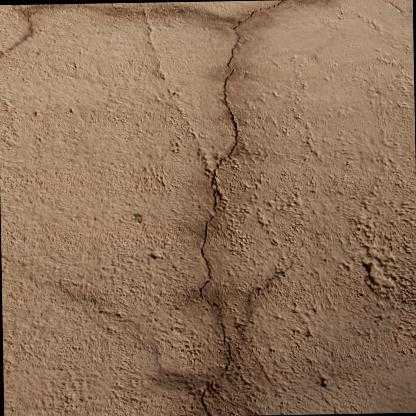crack: (197, 0, 290, 416)
